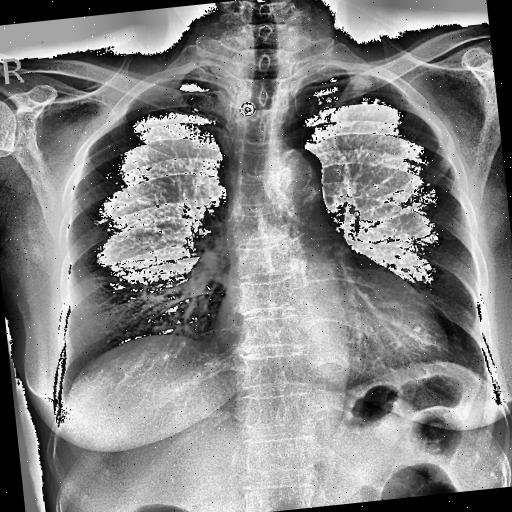0- Aortic enlargement: (277, 146, 325, 194)
3- Cardiomegaly: (214, 271, 450, 385), (210, 277, 452, 385), (206, 282, 450, 389)
